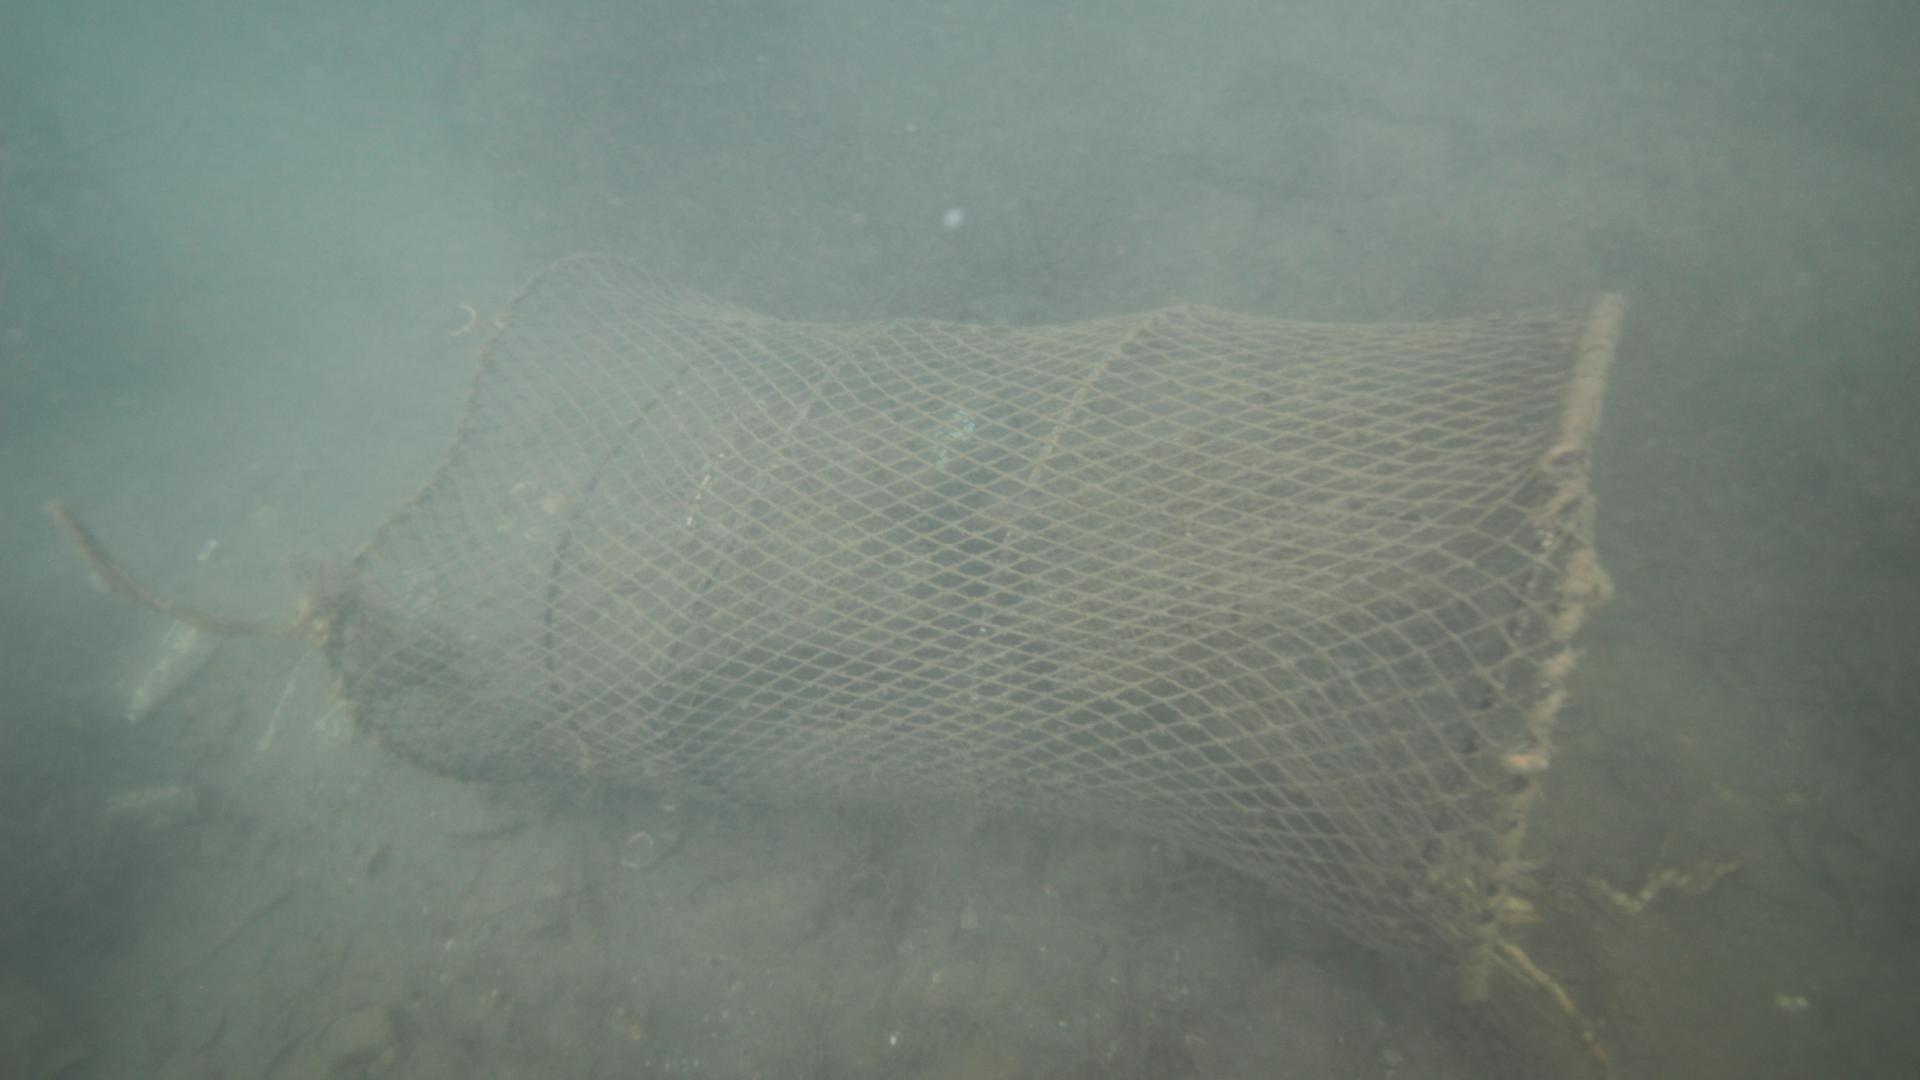rope: (40, 495, 311, 644)
spring fish trap: (320, 251, 1633, 1007)
